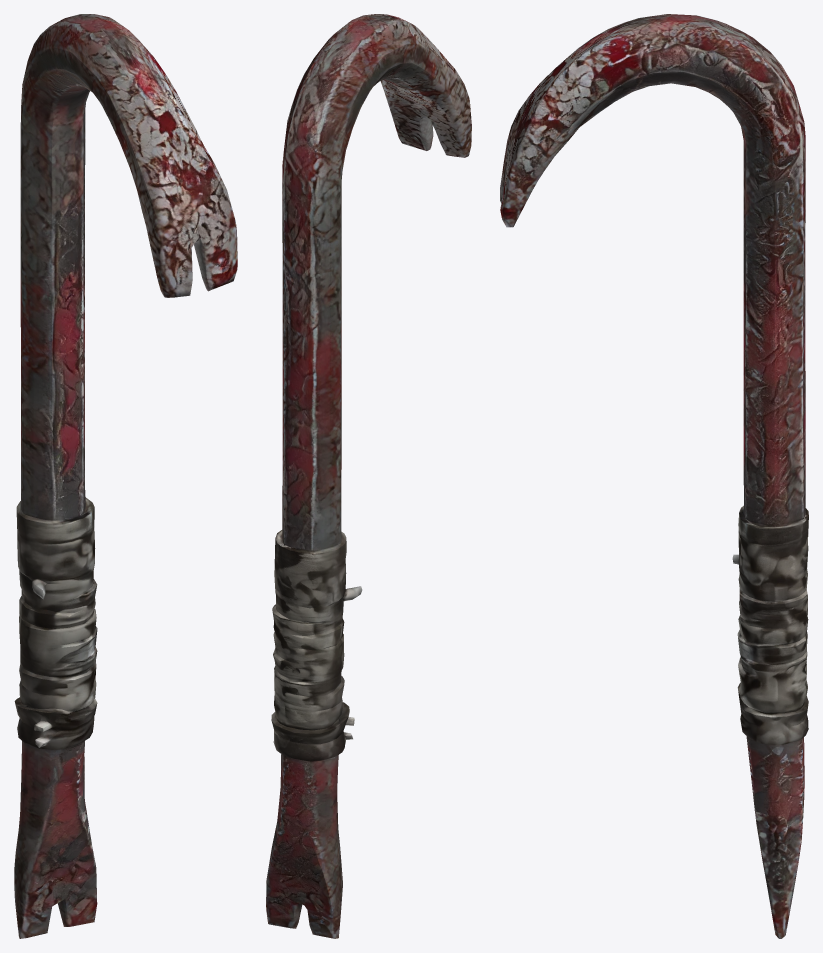
File: crowbar.glb
3 views of the same model, side by side, from view 1: azimuth 30°, elevation 25°; view 2: azimuth 150°, elevation 25°; view 3: azimuth 270°, elevation 25° (orthographic). The views are drawn at different scales.
Parts seen in each view (by area): view 1: model; view 2: model; view 3: model.
Part boxes in pixels (x1,y1,x2,y2): model: (14,14,237,938); model: (266,14,471,938); model: (500,14,808,938).
Size of the model in its own units: 0.0774 by 0.88 by 0.2736.
Materials: 1 (1 with a texture image).
